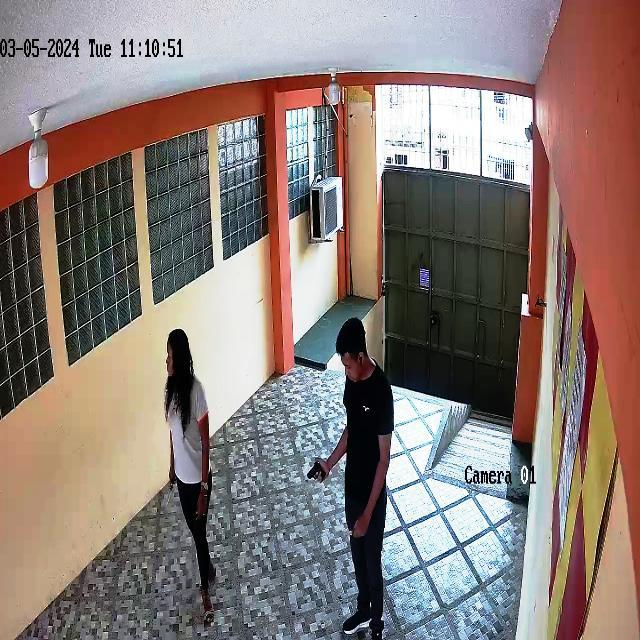Gun: (292, 449, 330, 495)
